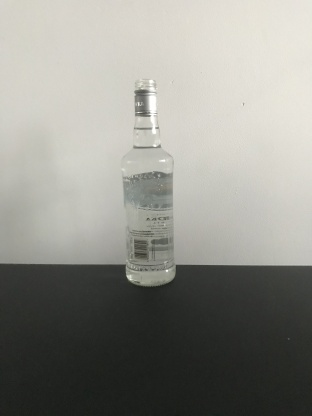nakretka: (132, 78, 159, 117)
